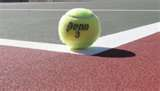tennis ball: (56, 7, 103, 50)
